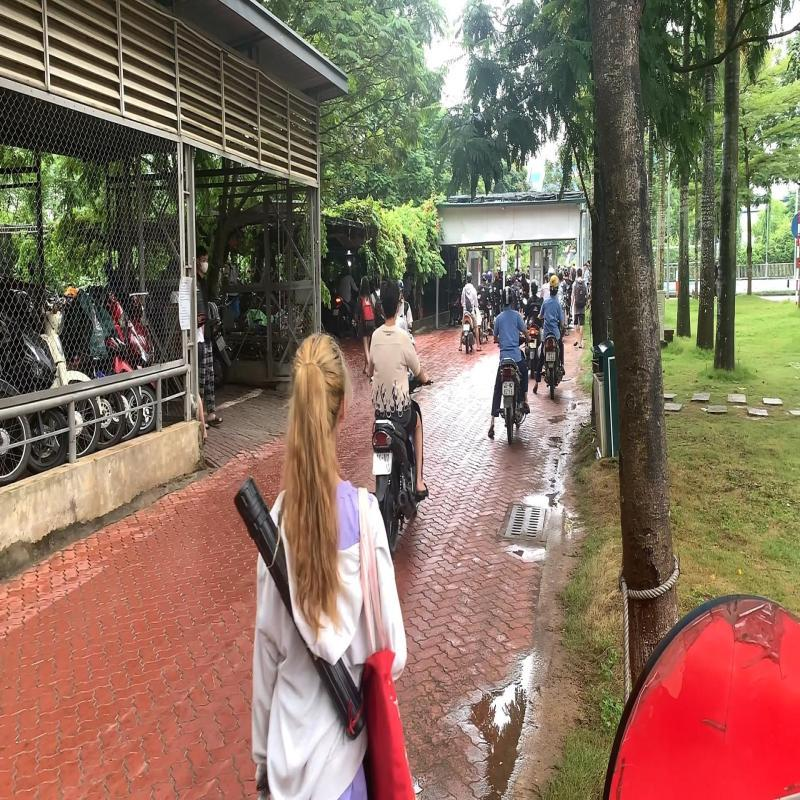nohelmet: (379, 276, 402, 324)
